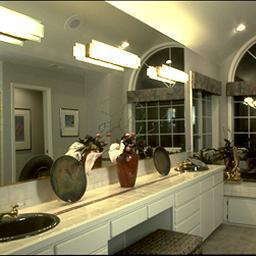Lavamanos: (3, 205, 63, 246)
Sanitario: (115, 234, 202, 254)
